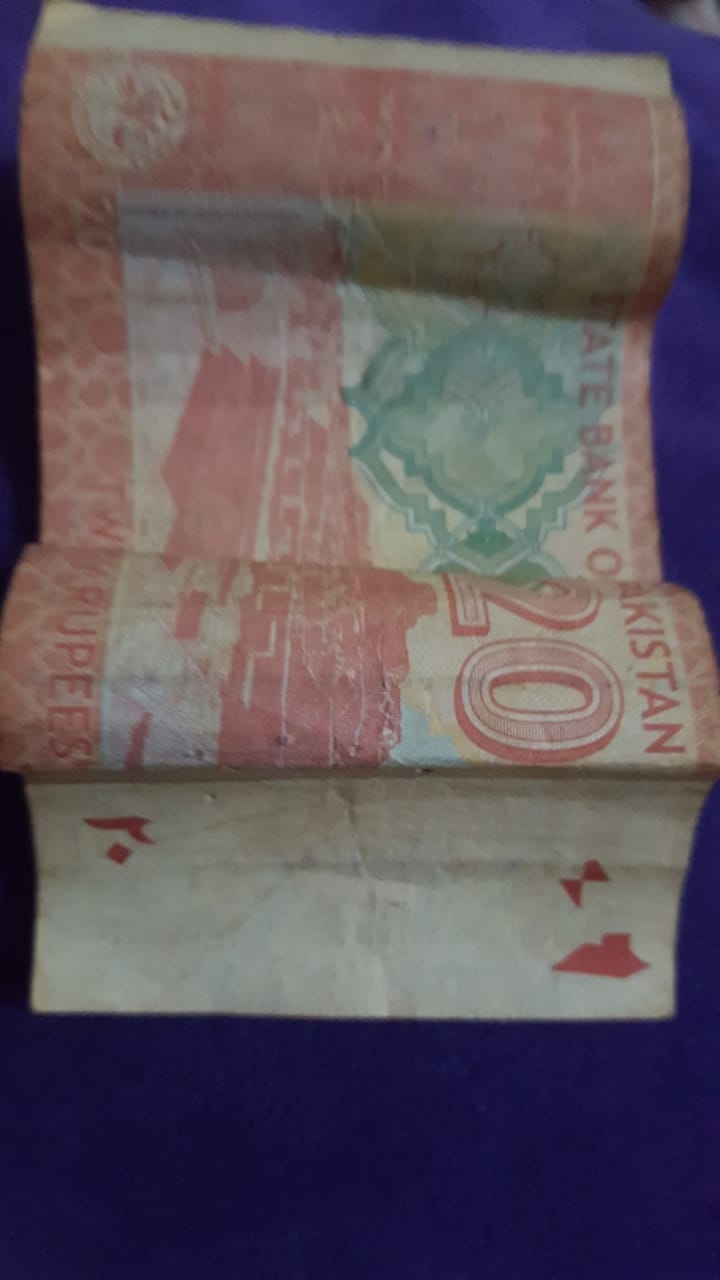20 rupee: (3, 14, 709, 1032)
